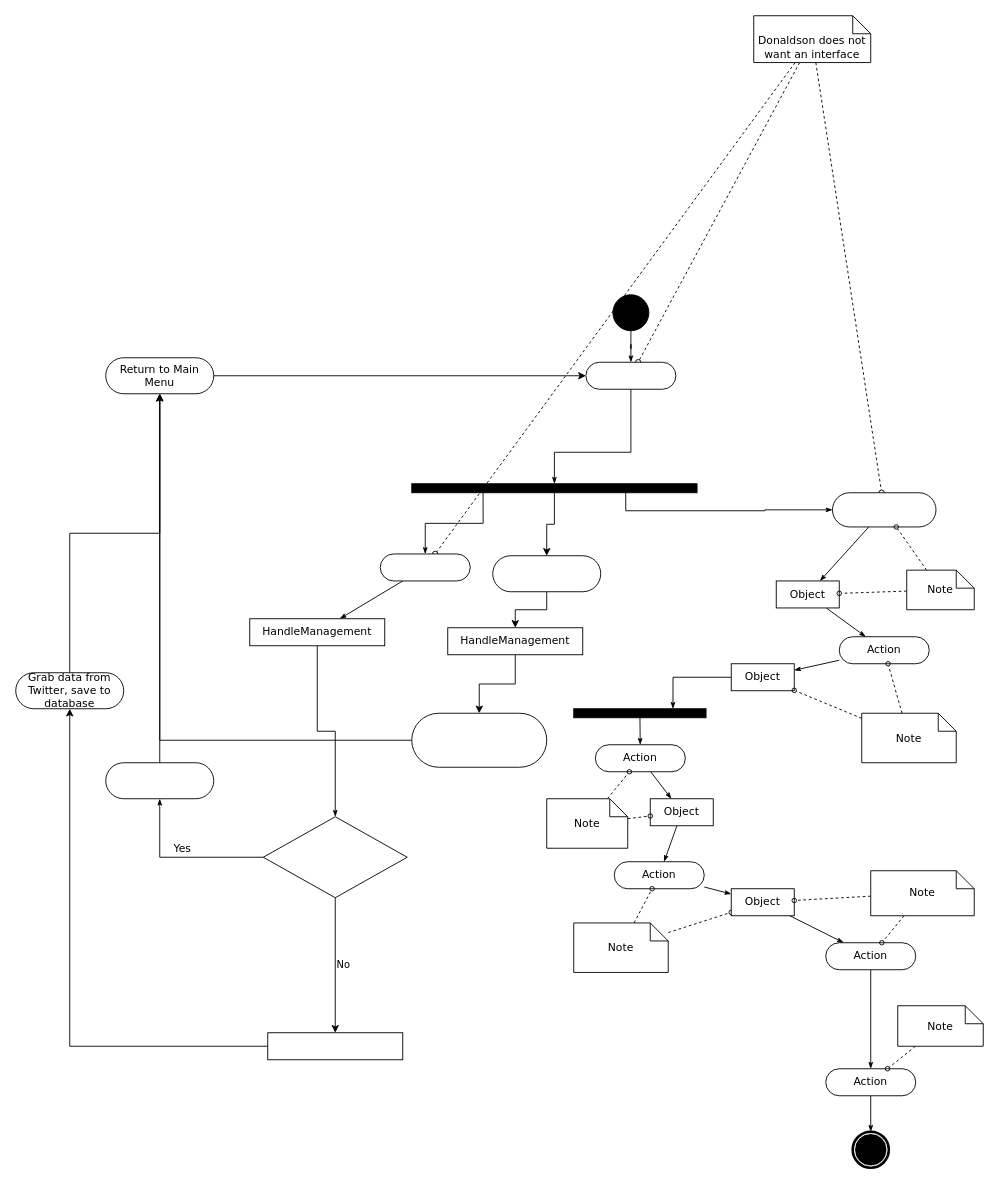
The diagram is 999 pixels wide and 1184 high, and some of its shapes have lost their labels. The shapes that lost their labels are listed below. From the top down, each one's box as (x1, y1, x2, y2) in pixels, then its label:
(585, 361, 676, 389): Launch Main Menu
(832, 492, 936, 527): Select 'Update Twitter Content'
(379, 553, 470, 581): Select 'Add Handle'
(492, 555, 601, 592): Select 'Select Handle'
(411, 712, 547, 767): Add/remove handle(s) to currently selected handles.
(105, 762, 214, 799): Display Error
(262, 816, 407, 898): Does handle already exist in database?
(267, 1032, 403, 1060): HandleDataCollector
